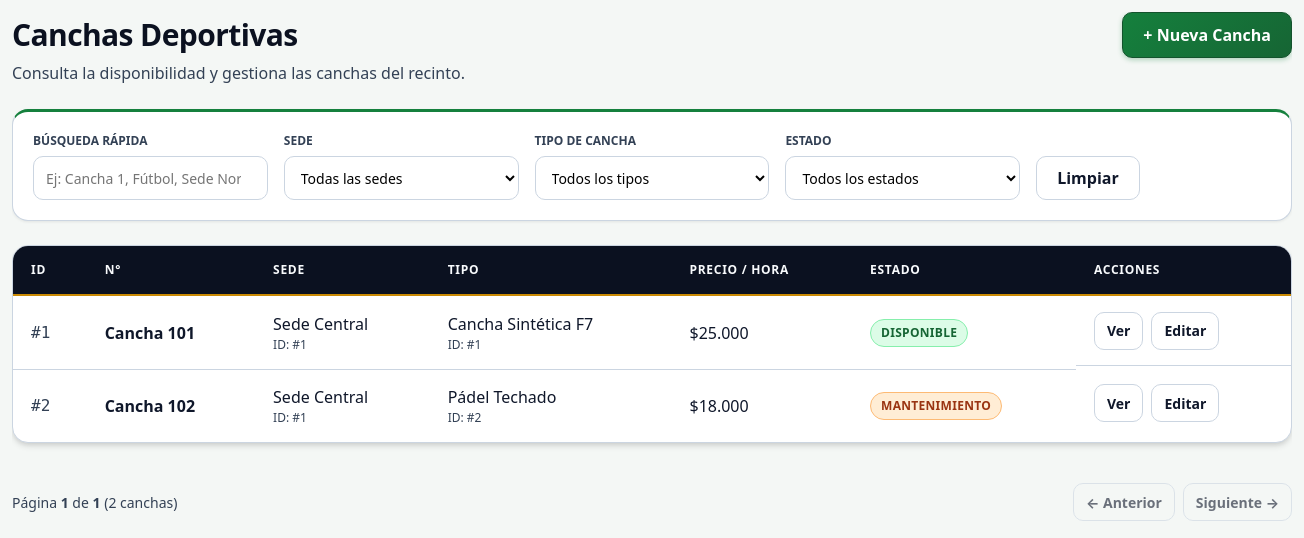
Test: CanchasListPage – Pruebas de integración con MSW › filtra canchas por texto de búsqueda reactivamente
The image size is (1304, 538).
Expected: the table is shown, left=13, top=246, right=1291, bottom=442
Step 1. Type "Pádel" into the search field labelled "Búsqueda rápida" → (150, 178), box left=33, top=156, right=268, bottom=200
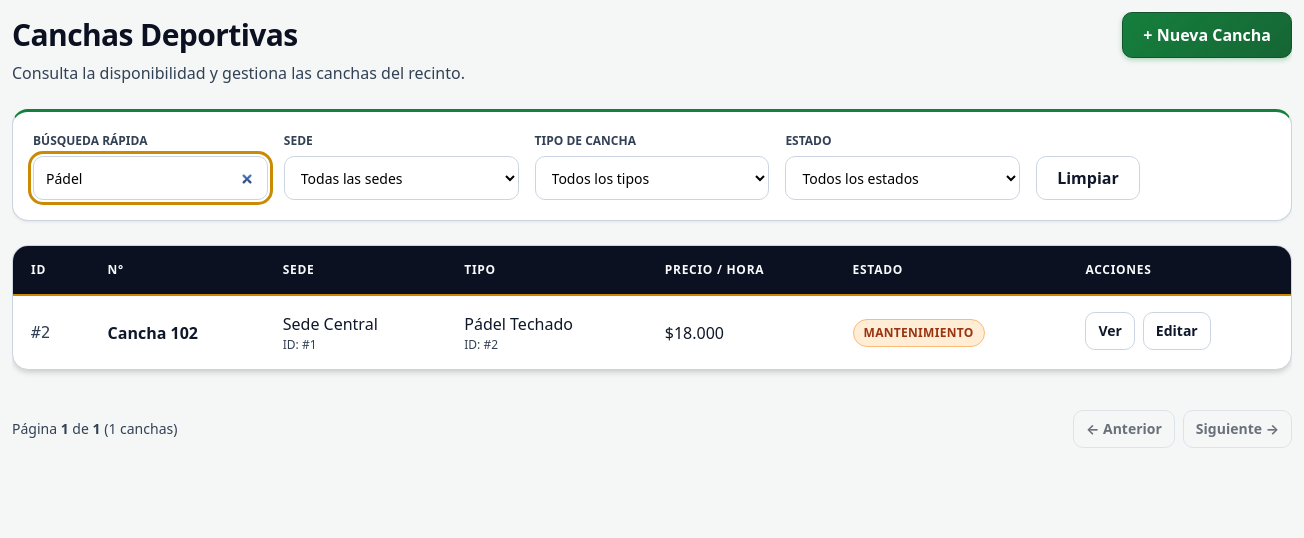
Expected: the text "Cancha 102" is shown, left=90, top=295, right=265, bottom=369
Expected: the text "Cancha 101" is gone
